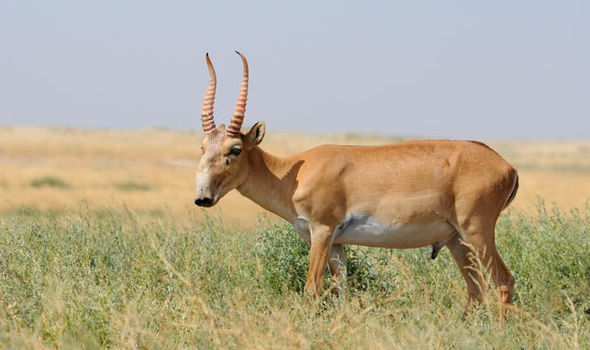saiga: (193, 48, 529, 332)
